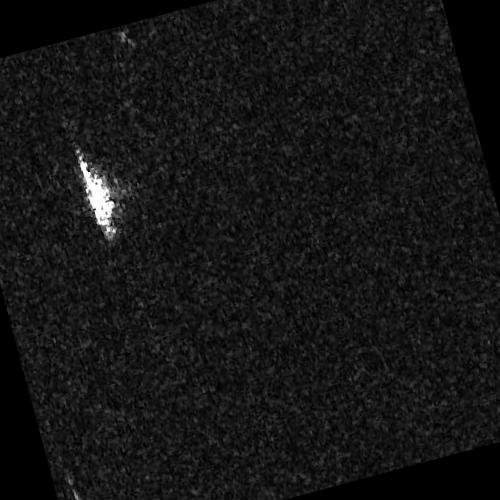ship: (75, 148, 117, 239)
